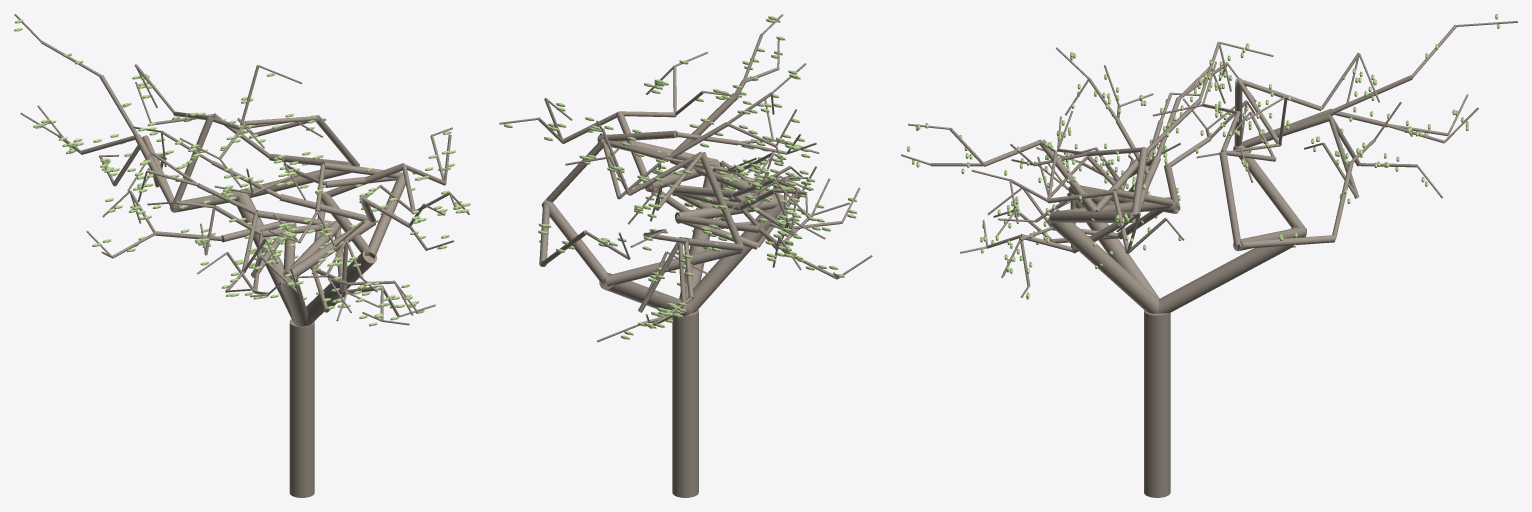
3 renders of one model, left to right at view 1: azimuth 30°, elevation 25°; view 2: azimuth 150°, elevation 25°; view 3: azimuth 270°, elevation 25°, orthographic. The views are drawn at different scales.
Visible parts, largest first — view 1: WillowBranch_D0, WillowBranch_D1.002, WillowBranch_D1.001, WillowBranch_D2, WillowBranch_D2.005, WillowBranch_D1, WillowBranch_D2.004, WillowBranch_D3.001, WillowBranch_D3.008, WillowBranch_D2.006, WillowBranch_D3.009, WillowBranch_D3.015; view 2: WillowBranch_D0, WillowBranch_D1, WillowBranch_D2.003, WillowBranch_D1.001, WillowBranch_D2.004, WillowBranch_D3.008, WillowBranch_D1.002, WillowBranch_D2.002, WillowBranch_D3.005, WillowBranch_D3.012, WillowBranch_D3.011, WillowBranch_D3 (+5 smaller); view 3: WillowBranch_D0, WillowBranch_D1.001, WillowBranch_D1.002, WillowBranch_D1, WillowBranch_D2.003, WillowBranch_D2.005, WillowBranch_D3.011, WillowBranch_D3.010.
Part boxes in pixels (x1,y1,x2,y2): WillowBranch_D0: (289, 319, 314, 497); WillowBranch_D1.002: (306, 250, 376, 325); WillowBranch_D1.001: (237, 190, 293, 321); WillowBranch_D2: (287, 218, 375, 279); WillowBranch_D2.005: (368, 172, 405, 258); WillowBranch_D1: (280, 268, 307, 326); WillowBranch_D2.004: (240, 162, 351, 197); WillowBranch_D3.001: (279, 194, 367, 221); WillowBranch_D3.008: (172, 117, 213, 208); WillowBranch_D2.006: (321, 191, 369, 255); WillowBranch_D3.009: (134, 134, 173, 209); WillowBranch_D3.015: (326, 163, 403, 196); WillowBranch_D0: (672, 309, 698, 497); WillowBranch_D1: (686, 203, 784, 313); WillowBranch_D2.003: (605, 249, 742, 286); WillowBranch_D1.001: (599, 272, 691, 316); WillowBranch_D2.004: (541, 200, 608, 285); WillowBranch_D3.008: (700, 152, 743, 246); WillowBranch_D1.002: (679, 162, 720, 299); WillowBranch_D2.002: (675, 196, 784, 223); WillowBranch_D3.005: (676, 214, 761, 233); WillowBranch_D3.012: (597, 130, 677, 141); WillowBranch_D3.011: (545, 139, 603, 202); WillowBranch_D3: (671, 93, 738, 154); WillowBranch_D0: (1144, 310, 1170, 497); WillowBranch_D1.001: (1158, 225, 1306, 313); WillowBranch_D1.002: (1047, 210, 1158, 313); WillowBranch_D1: (1067, 185, 1159, 299); WillowBranch_D2.003: (1233, 145, 1306, 231); WillowBranch_D2.005: (1049, 211, 1135, 222); WillowBranch_D3.011: (1219, 151, 1240, 246); WillowBranch_D3.010: (1238, 235, 1335, 249).
Size of the model in its own units: 12.91 by 13.59 by 18.4.
